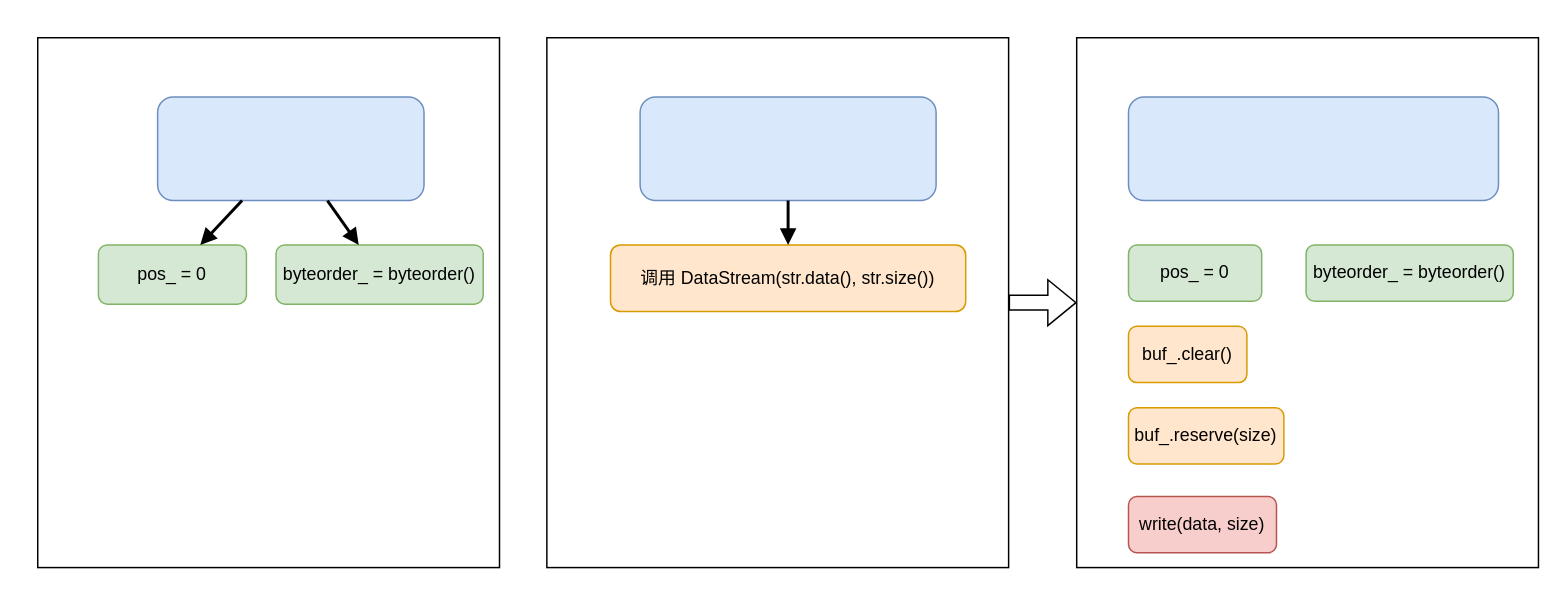
Some shapes in this 1564 by 593 pixel diagram are drawn without their labels. Each missing label, with the centre of its shape:
DataStream() 无参构造函数: point 290,148
DataStream(const char* data, size_t size) 字符数组核心构造: point 1312,148
DataStream(const std::string& str) 字符串重载构造: point 787,148
